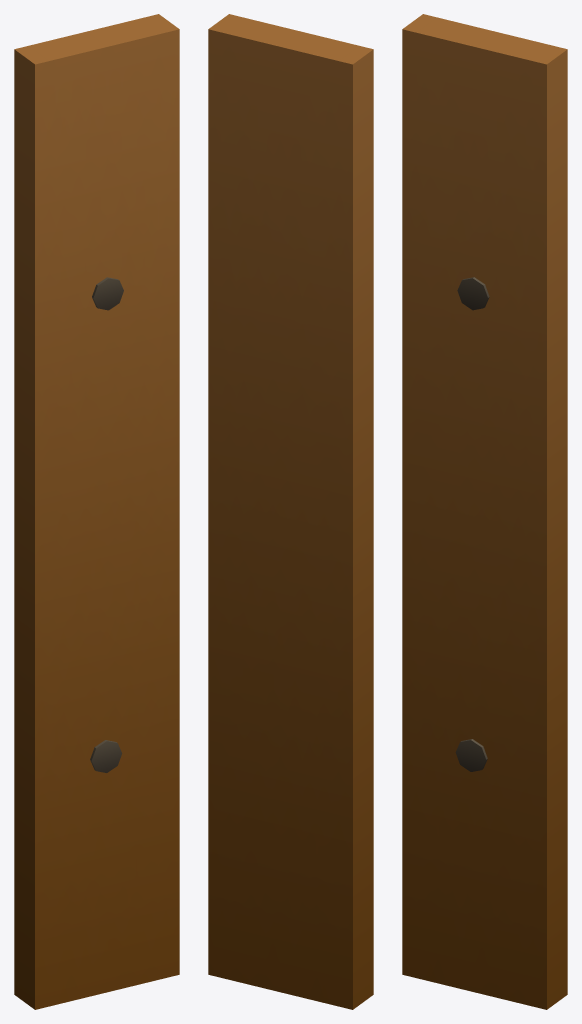
The model's file is Fence_Bit_A.fbx.
3 renders of one model, left to right at view 1: azimuth 30°, elevation 25°; view 2: azimuth 150°, elevation 25°; view 3: azimuth 330°, elevation 25°, orthographic.
Visible parts, largest first — view 1: Fence_Bit_A; view 2: Fence_Bit_A; view 3: Fence_Bit_A.
Part boxes in pixels (x1,y1,x2,y2): Fence_Bit_A: (14,14,179,1009); Fence_Bit_A: (208,14,373,1009); Fence_Bit_A: (402,14,567,1009).
Size of the model in its own units: 16 by 100 by 4.3.
